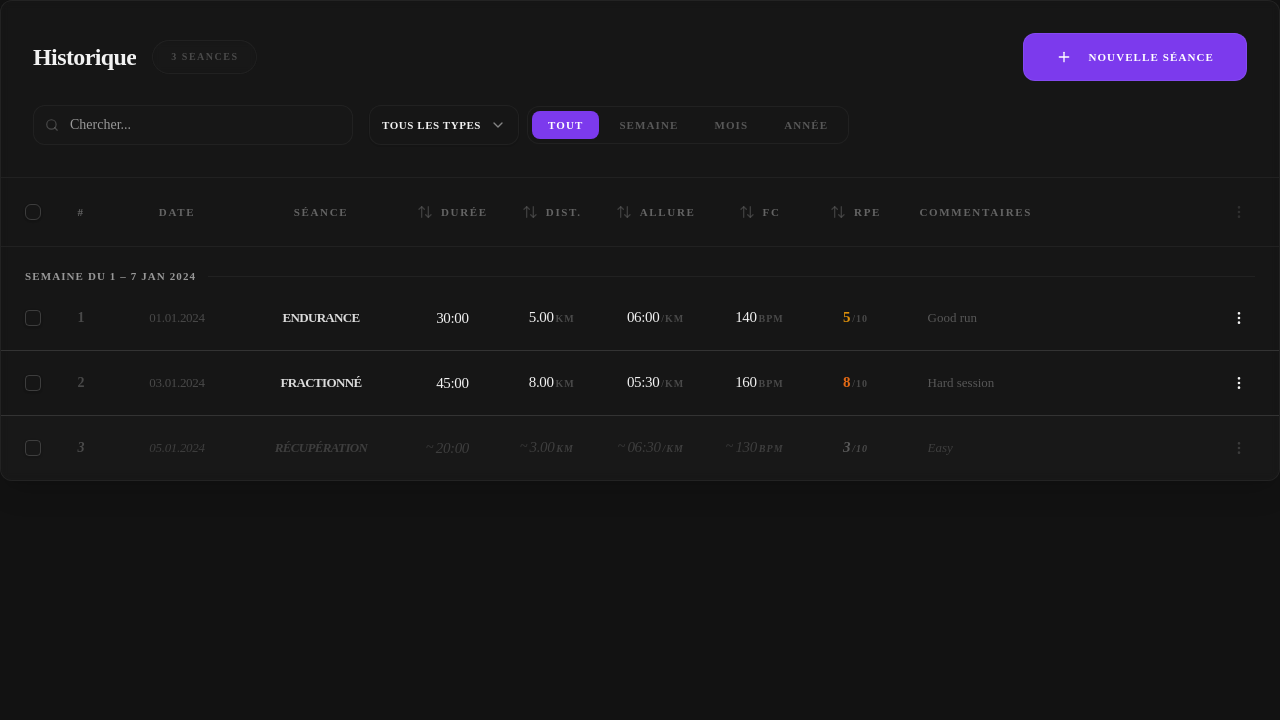
Test: SessionsTable › should select all sessions
Click the checkbox named "sélectionner toutes les séances": (33, 212) [25,204,41,220]
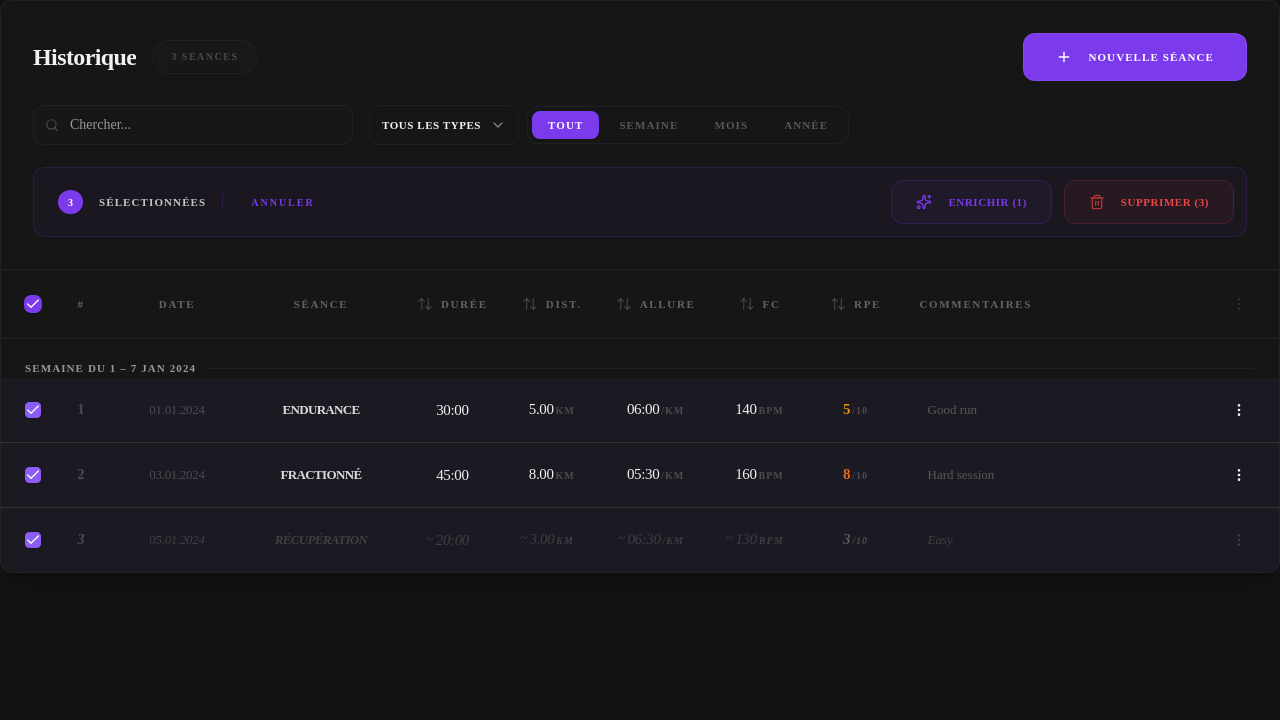
Expected: the text with test id "selection-count" reads "3", [68,196,73,208]
Expected: the text "Sélectionnées" is shown, [99,194,206,210]
